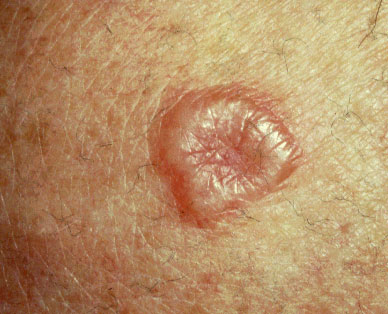Basa Cell Carcinoma: (134, 57, 314, 238)
